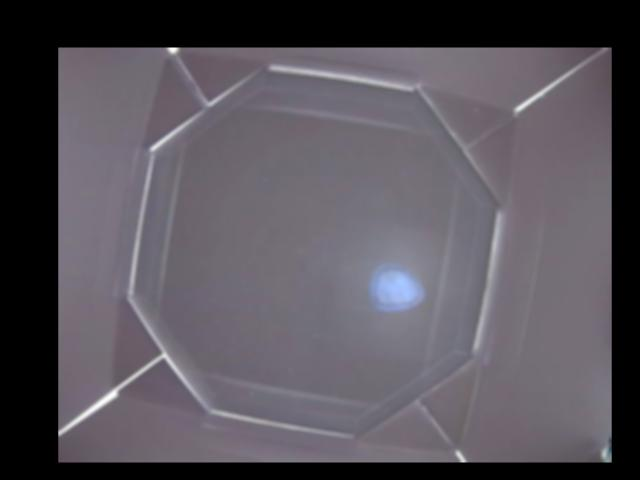Pebble: (373, 267, 426, 310)
